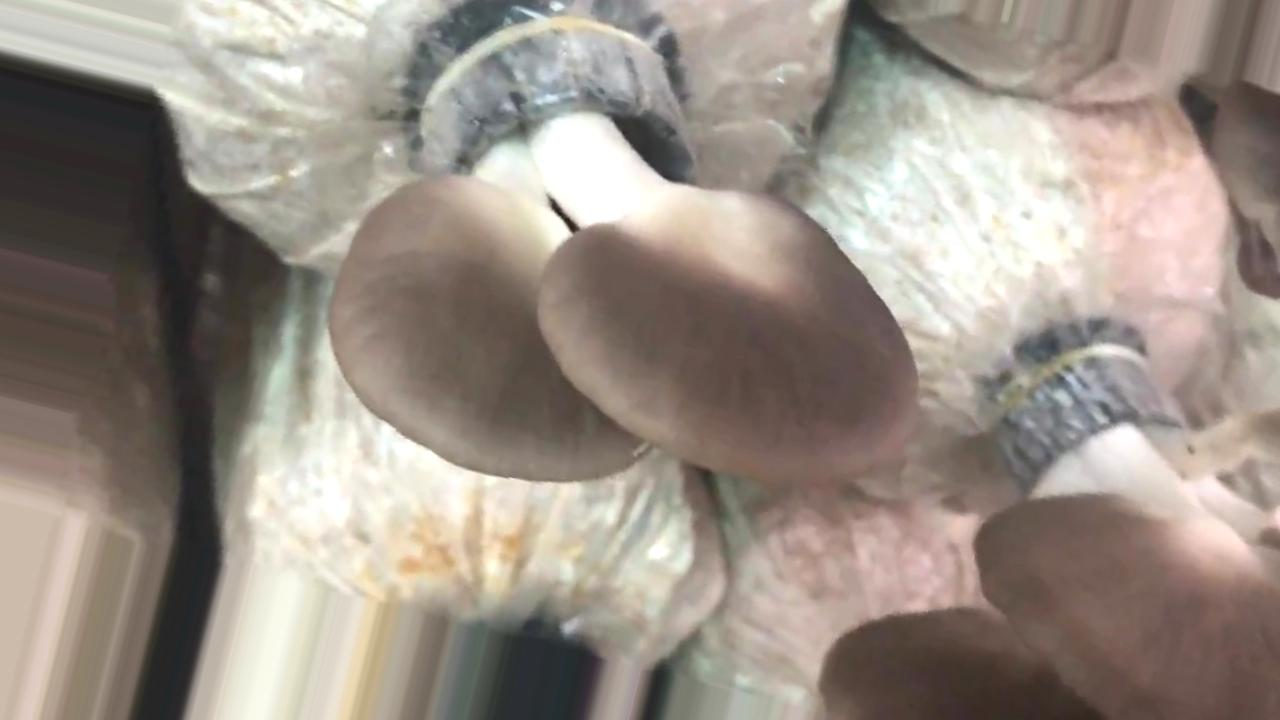nam: (331, 16, 918, 482), (821, 370, 1280, 714)
